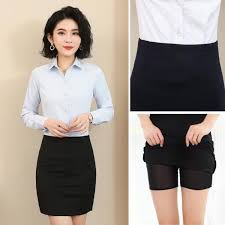F_shirt: (16, 54, 120, 143)
F_tailored skirt: (34, 133, 100, 217)
